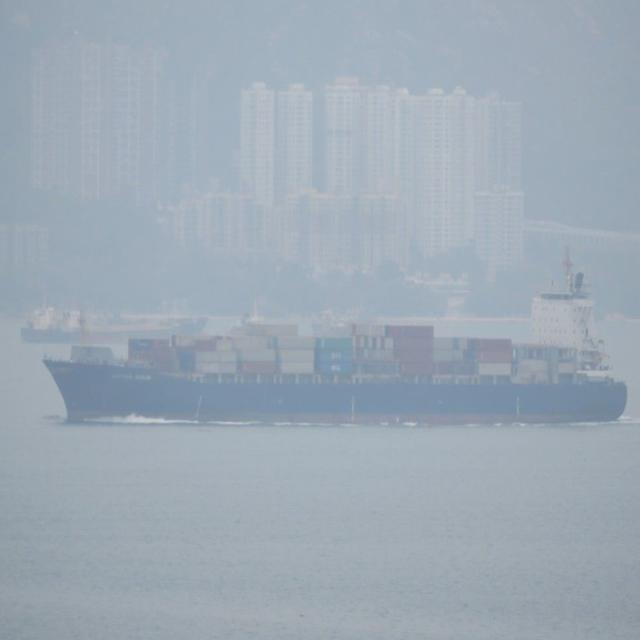cargoship: (50, 278, 629, 426), (19, 289, 208, 344)
